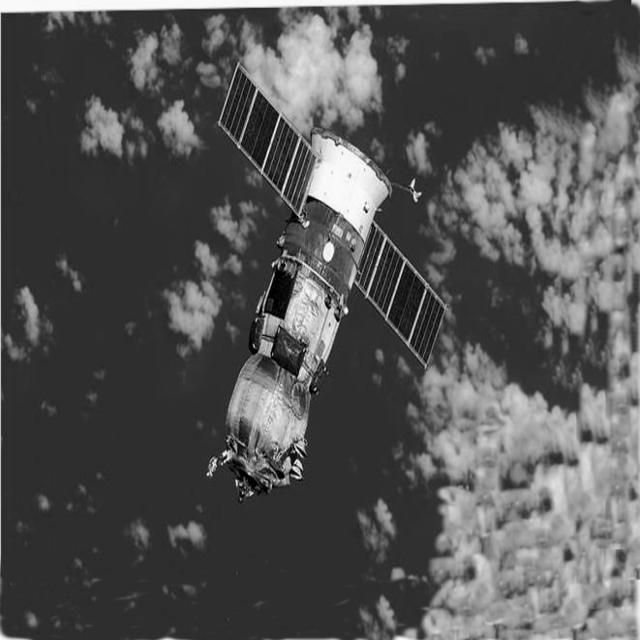satellite: (202, 60, 453, 498)
